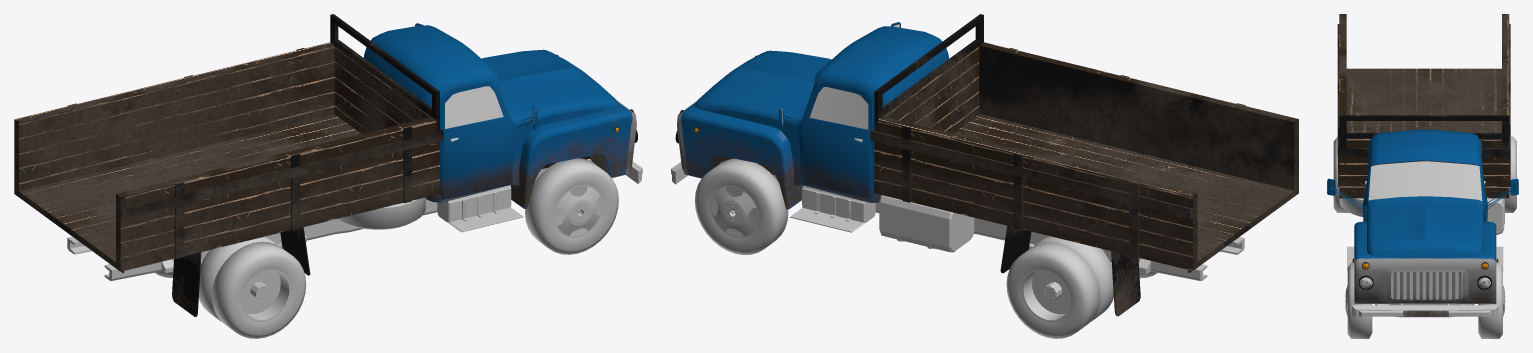
The model's file is GAZ 1953 EXP.fbx.
3 views of the same model, side by side, from view 1: azimuth 30°, elevation 25°; view 2: azimuth 150°, elevation 25°; view 3: azimuth 270°, elevation 25° (orthographic). The views are drawn at different scales.
Visible parts, largest first — view 1: ROOT, RR, DR, FR; view 2: ROOT, RL, DL, FL; view 3: ROOT, FR, FL, RL, RR.
Boxes of the visible parts, x1,y1,x2,y2 form: ROOT: (14,14,642,316); RR: (199,236,306,338); DR: (440,83,514,199); FR: (525,158,618,254); ROOT: (671,14,1298,316); RL: (1006,235,1113,338); DL: (798,83,873,200); FL: (694,158,788,254); ROOT: (1327,14,1518,317); FR: (1345,262,1372,338); FL: (1478,262,1505,338); RL: (1505,136,1516,212); RR: (1333,137,1349,212).
Bounding box in the file's own units: 572 × 207 × 222.
